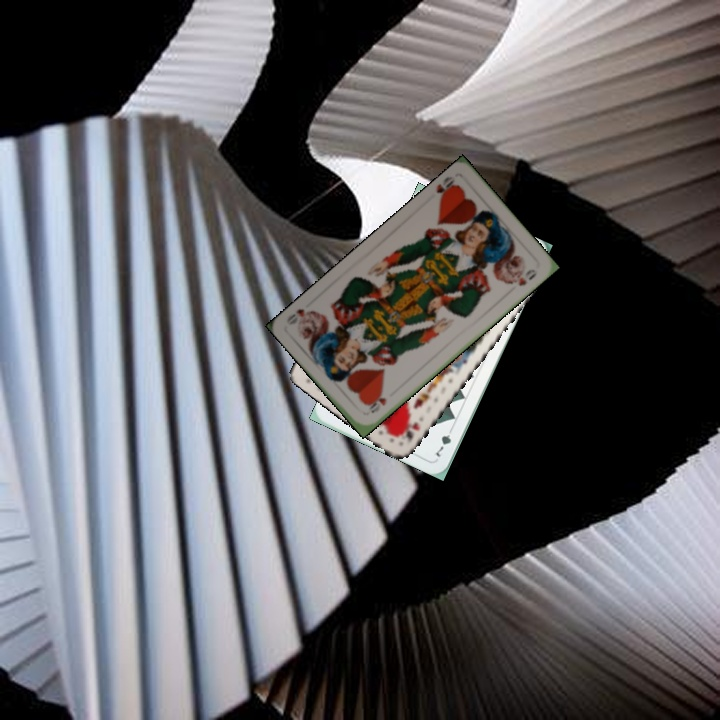G7: (432, 422, 455, 460)
HK: (397, 417, 422, 444)
HO: (432, 172, 462, 205), (364, 393, 389, 416)
